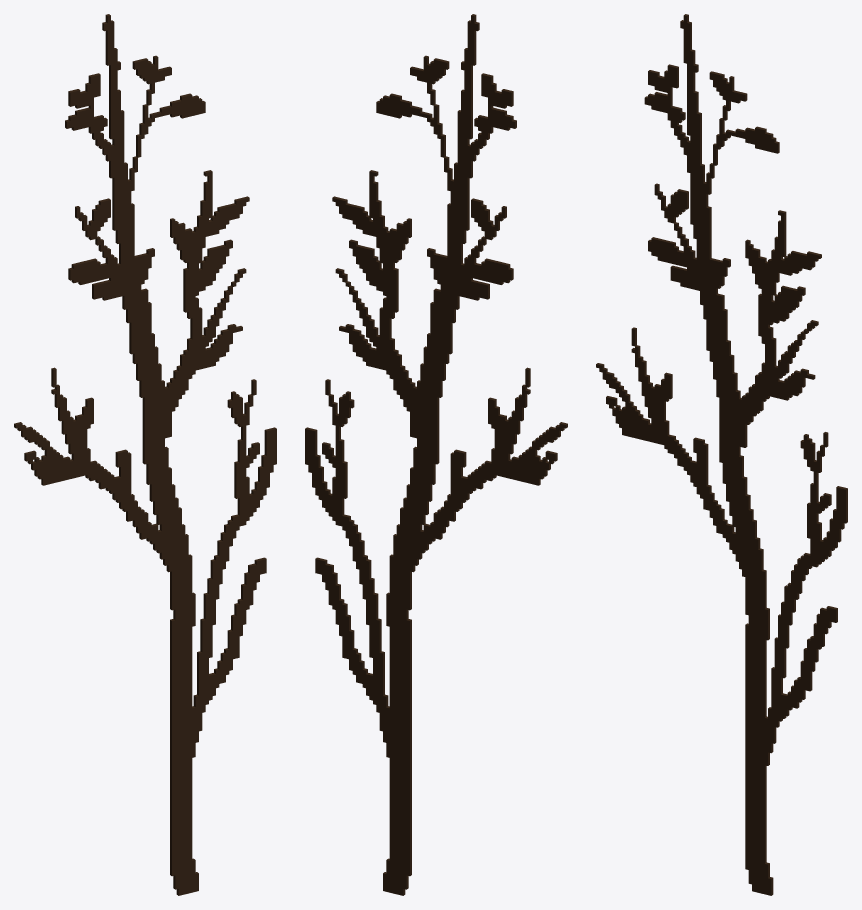
File: forest1.2-102.obj
3 views of the same model, side by side, from view 1: azimuth 30°, elevation 25°; view 2: azimuth 150°, elevation 25°; view 3: azimuth 330°, elevation 25° (orthographic). The views are drawn at different scales.
Bounding box in the file's own units: 7.7 × 25.3 × 0.1.
Materials: 1 (1 with a texture image).
